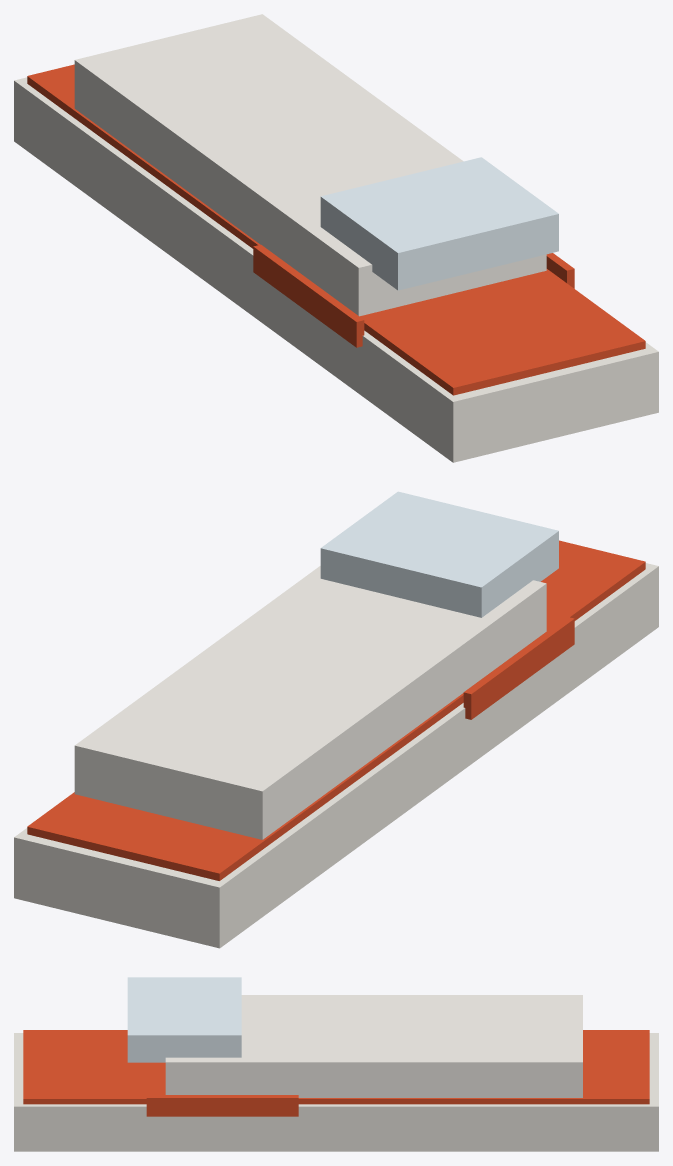
Rendered from ship-ferry.glb.
3 views of the same model, one above another, from view 1: azimuth 30°, elevation 25°; view 2: azimuth 150°, elevation 25°; view 3: azimuth 270°, elevation 25° (orthographic). The views are drawn at different scales.
Visible parts, largest first — view 1: ferry; view 2: ferry; view 3: ferry.
Boxes of the visible parts, x1,y1,x2,y2 form: ferry: (14, 14, 658, 462); ferry: (14, 491, 658, 948); ferry: (14, 977, 658, 1151).
Size of the model in its own units: 9.75 by 6.3 by 34.
